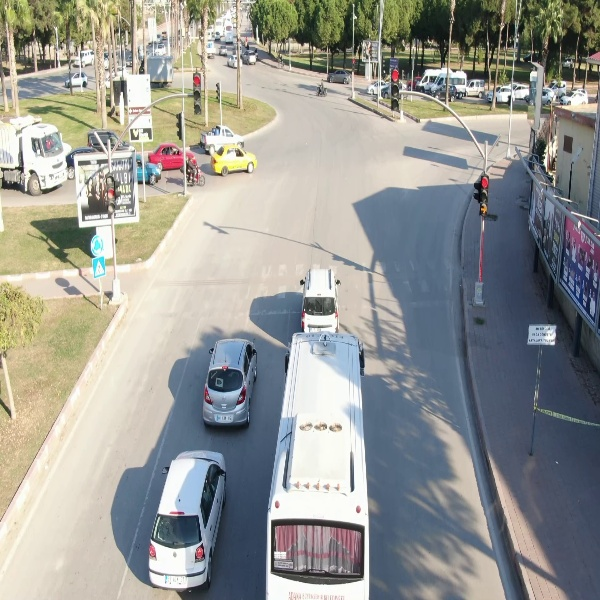car: (143, 449, 229, 591), (200, 338, 260, 428), (211, 143, 260, 176), (558, 89, 590, 108), (324, 68, 353, 85), (64, 70, 89, 89)
